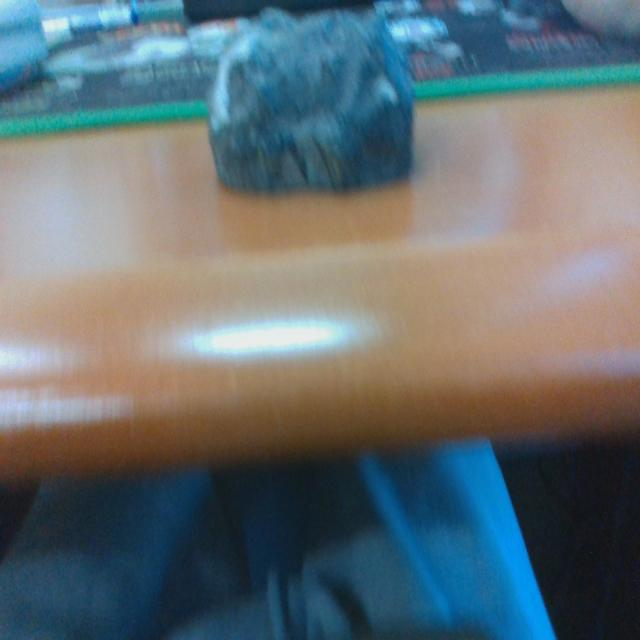stone: (205, 8, 417, 201)
